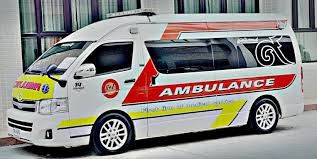van: (6, 13, 305, 154)
